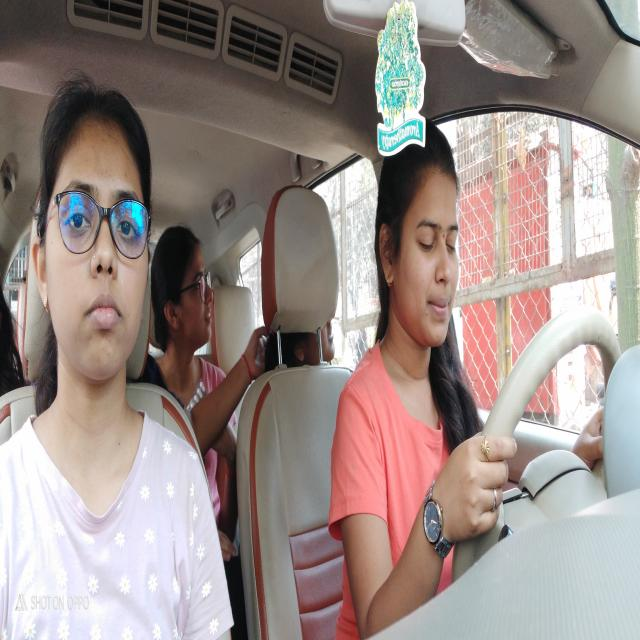drowsy: (378, 152, 462, 349)
person: (34, 86, 151, 387), (159, 225, 216, 355)
